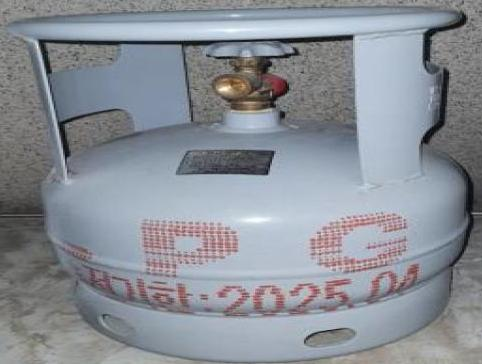cylinder: (1, 0, 482, 364)
